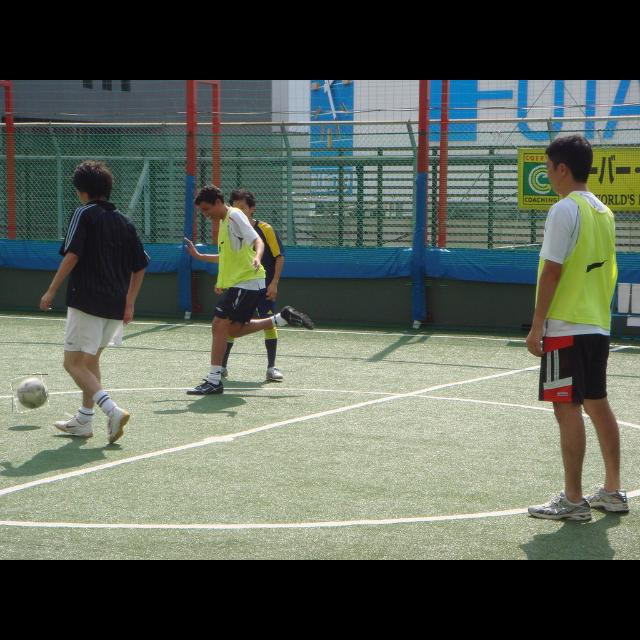Football: (12, 374, 48, 412)
